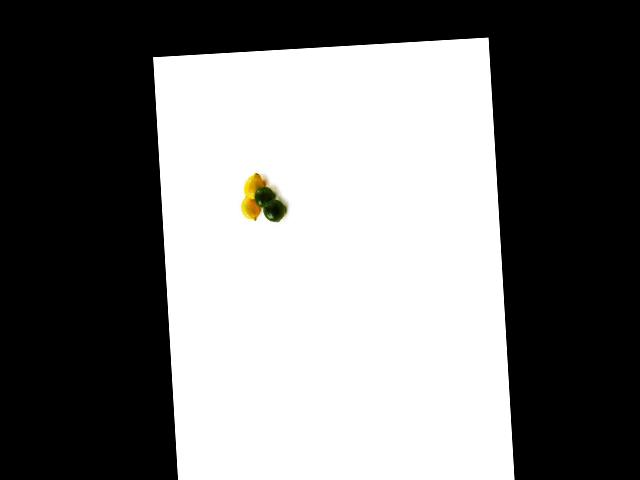lemon: (262, 198, 286, 225)
